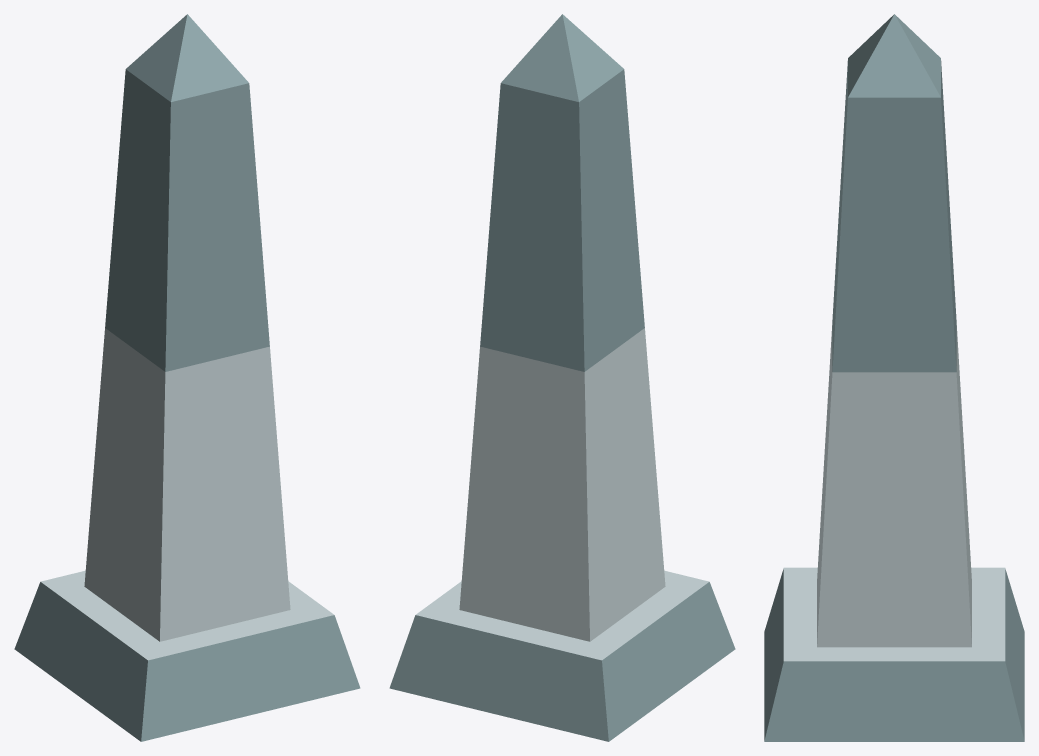
The model's file is statue_obelisk.glb.
The picture shows the model from 3 angles, left to right: view 1: azimuth 30°, elevation 25°; view 2: azimuth 150°, elevation 25°; view 3: azimuth 270°, elevation 25°; orthographic projection. The views are drawn at different scales.
Visible parts, largest first — view 1: statue_obelisk; view 2: statue_obelisk; view 3: statue_obelisk.
Part boxes in pixels (box(x1,y1,x2,y2)): statue_obelisk: box(14, 14, 360, 741); statue_obelisk: box(389, 14, 735, 741); statue_obelisk: box(764, 14, 1024, 741).
Bounding box in the file's own units: 0.3566 × 1.02 × 0.3566.
